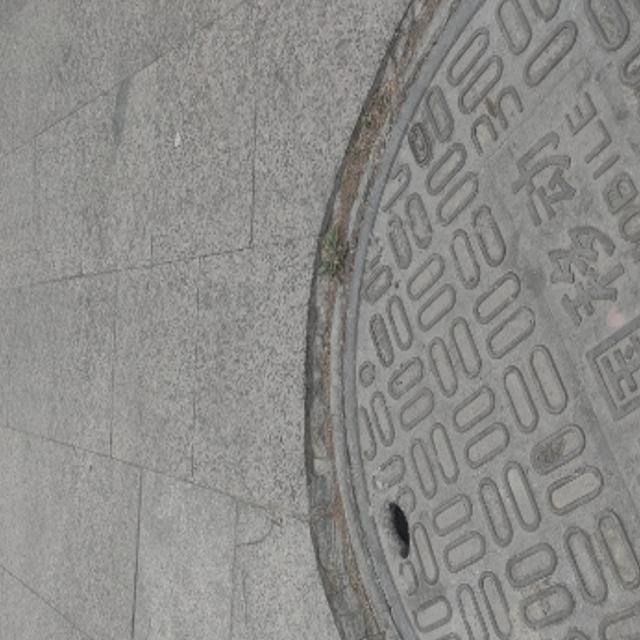good: (308, 0, 640, 640)
